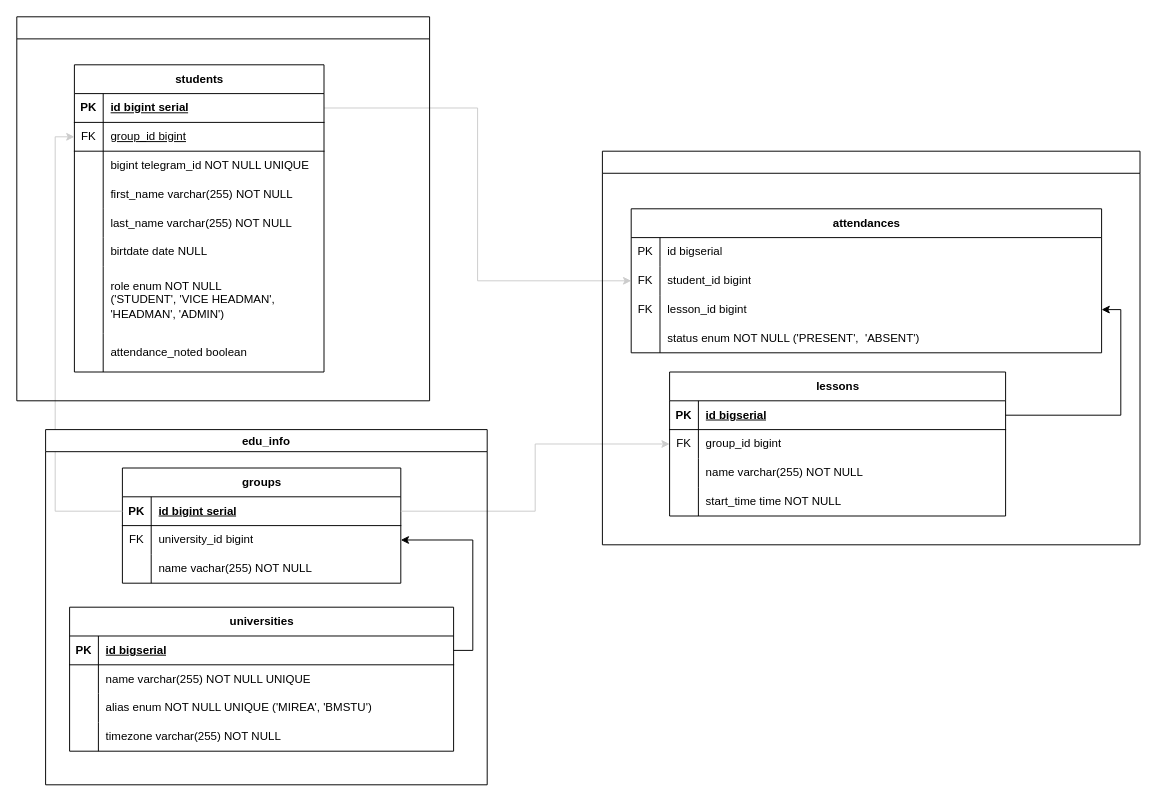
Image size: 1157x802. Some labels were removed from this diagram. The shapes that lost their labels are listed below. From the top down, each one's centre as x and y in pixels, then its label:
point 223,208: student_manaegement
point 870,347: attendance
